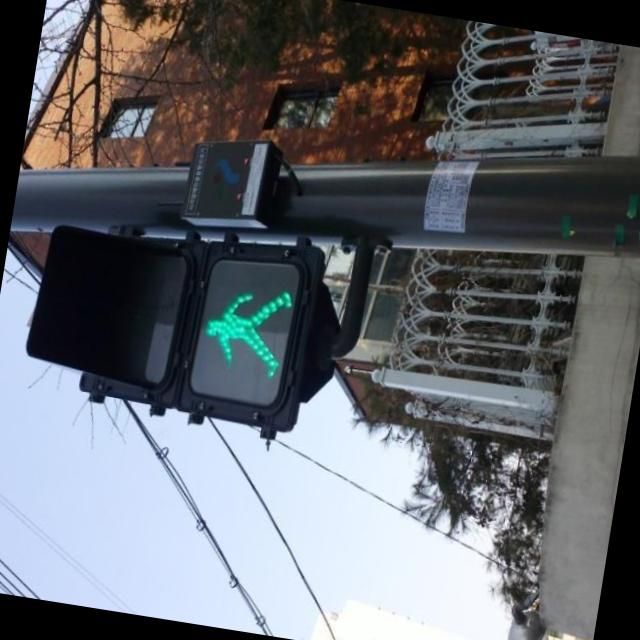green_light: (192, 252, 298, 396)
